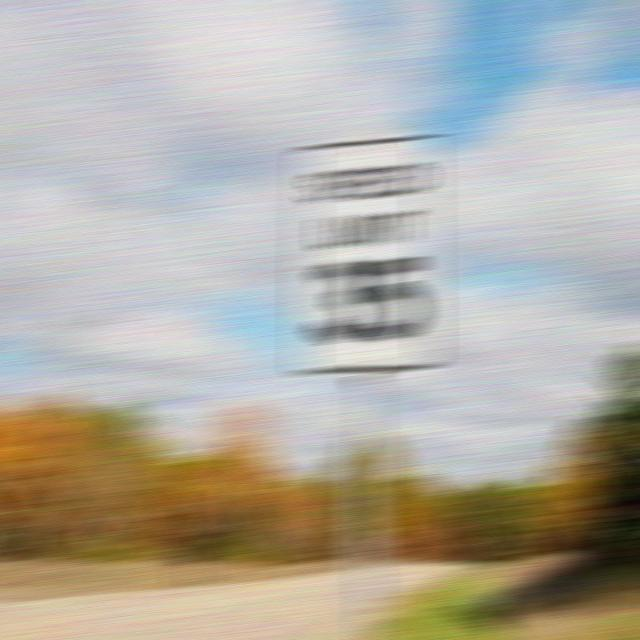speedLimit35: (308, 154, 425, 353)
